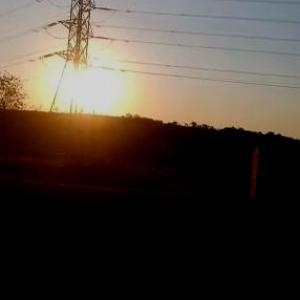follow: (7, 185, 74, 299)
